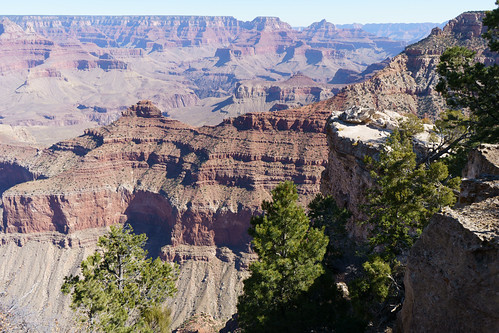mountain: (1, 75, 293, 192)
tree: (353, 123, 453, 333), (58, 220, 180, 333), (240, 194, 329, 333)
